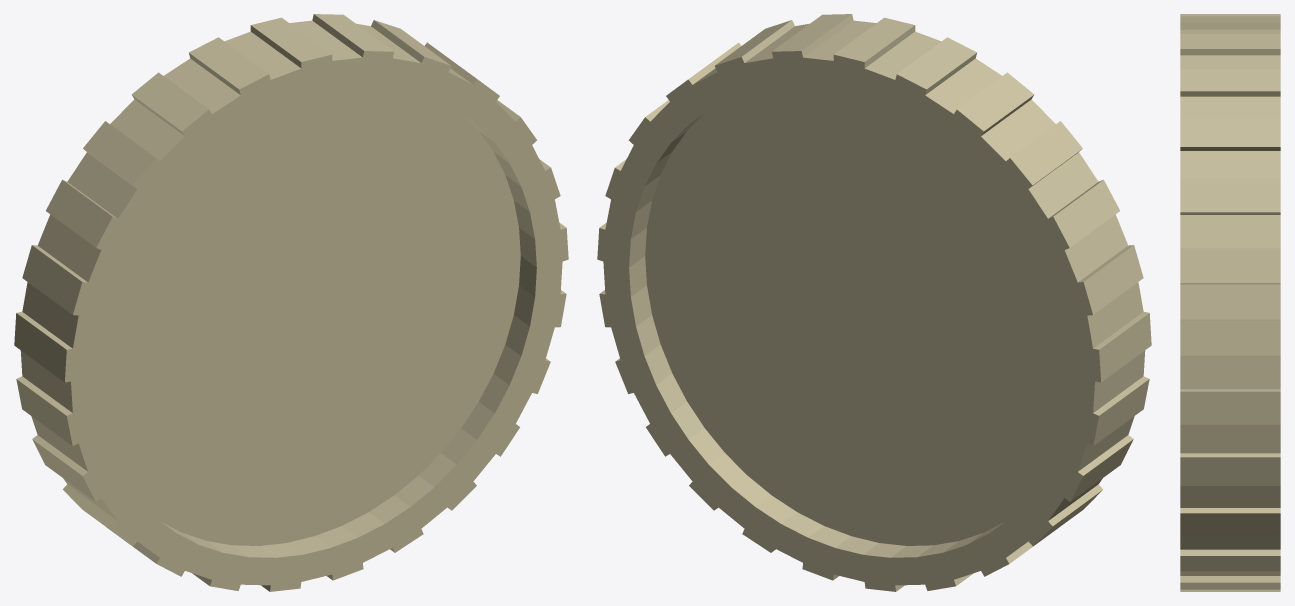
The model's file is Coin.fbx.
The picture shows the model from 3 angles, left to right: view 1: azimuth 30°, elevation 25°; view 2: azimuth 150°, elevation 25°; view 3: azimuth 270°, elevation 25°; orthographic projection.
Parts seen in each view (by area): view 1: Coin; view 2: Coin; view 3: Coin.
Part boxes in pixels (x1,y1,x2,y2): Coin: (14, 14, 568, 591); Coin: (597, 14, 1151, 591); Coin: (1180, 14, 1280, 591).
Bounding box in the file's own units: 16.48 × 16.44 × 2.86.
